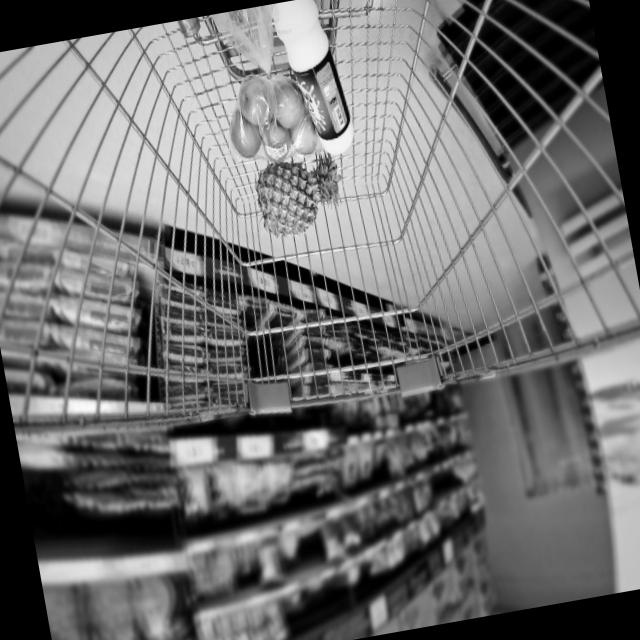apple: (223, 70, 325, 170)
milk: (274, 0, 357, 166)
pineapple: (250, 149, 352, 244)
